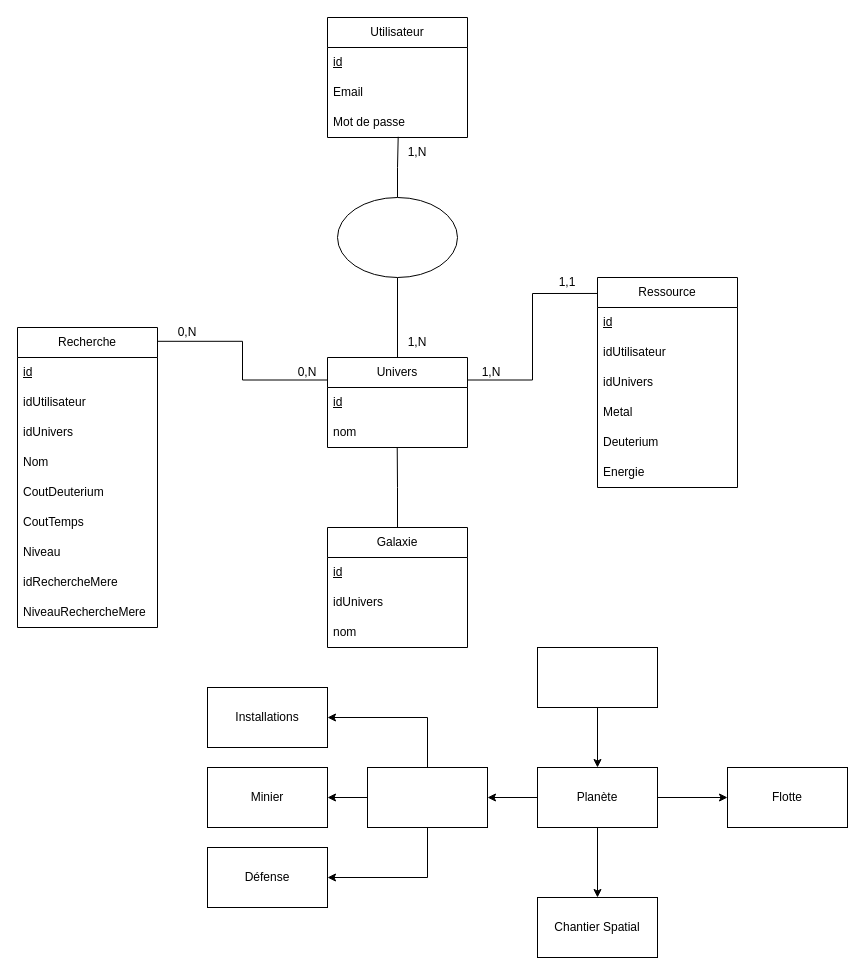
Some shapes in this 865 by 975 pixel diagram are drawn without their labels. The shapes that lost their labels are listed below. From the top down, each one's centre as x and y in pixels, then its label:
At point 597,677: "Système solaire".
At point 427,797: "Infrastructure".
